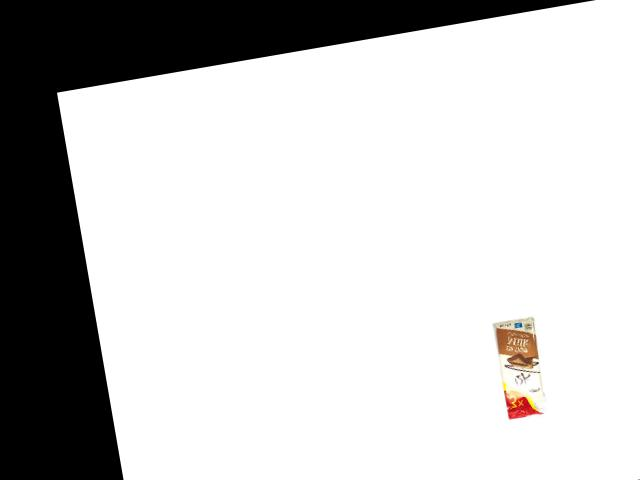chocolate: (489, 318, 551, 422)
